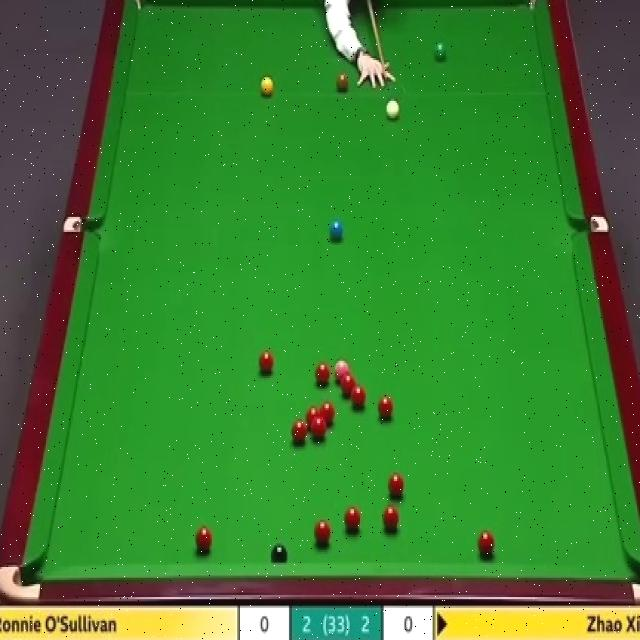black-ball: (270, 544, 288, 564)
blue-ball: (327, 215, 344, 242)
brown-ball: (336, 72, 348, 92)
green-ball: (431, 41, 448, 62)
pink-ball: (335, 359, 350, 383)
red-ball: (478, 527, 496, 558), (382, 503, 399, 532), (195, 525, 213, 552), (344, 505, 361, 533), (315, 518, 331, 546), (290, 417, 307, 443), (377, 394, 393, 421), (320, 401, 336, 428), (388, 472, 404, 498), (341, 372, 356, 396), (351, 385, 366, 409), (260, 351, 274, 374), (312, 419, 326, 440), (316, 364, 330, 385), (306, 406, 320, 427)
white-ball: (384, 95, 400, 124)
yellow-ball: (259, 74, 274, 95)
